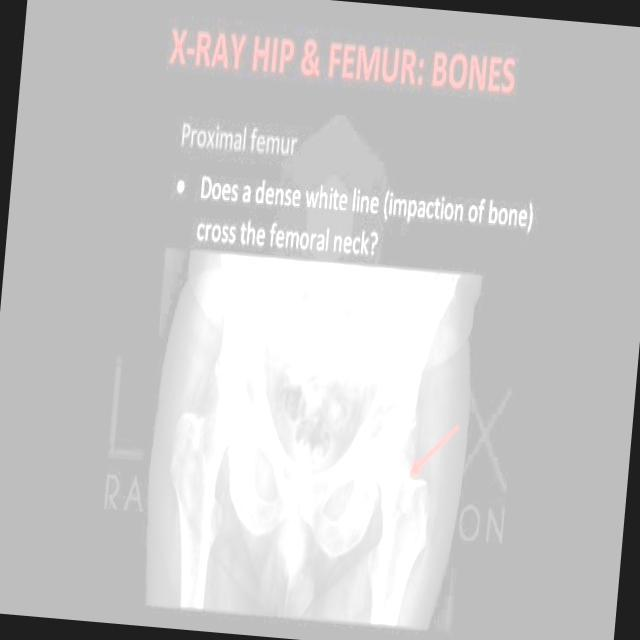Impact Fracture: (390, 466, 418, 516)
